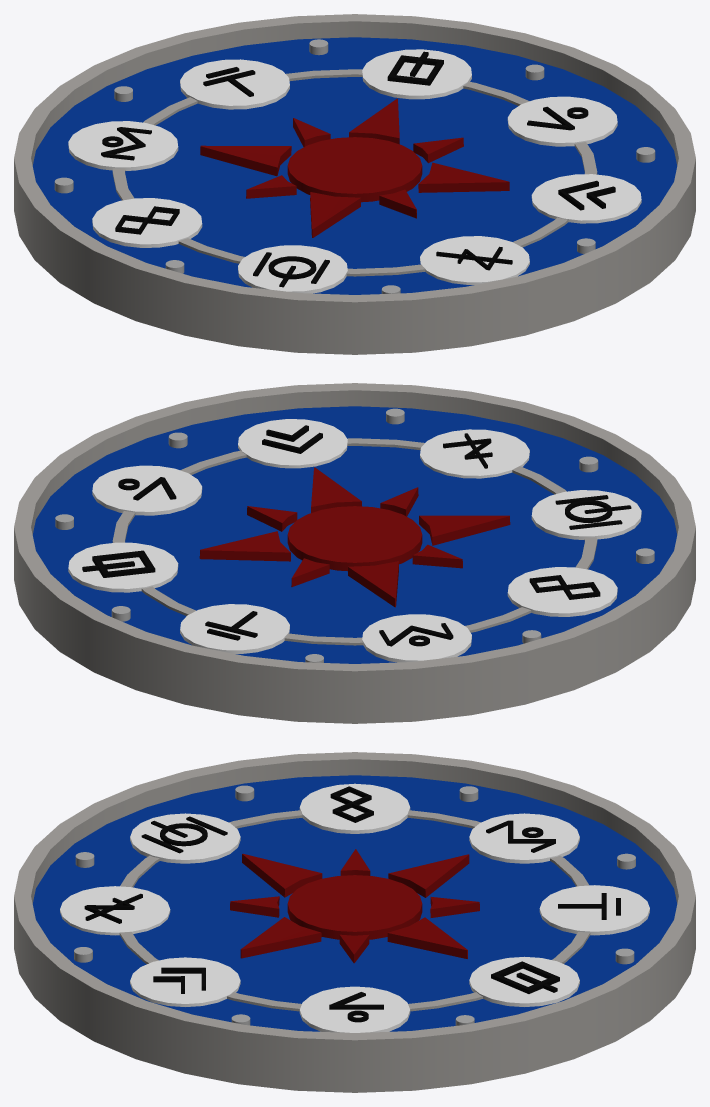
Rendered from compass.fbx.
The picture shows the model from 3 angles, top to bottom: view 1: azimuth 30°, elevation 25°; view 2: azimuth 150°, elevation 25°; view 3: azimuth 270°, elevation 25°; orthographic projection.
Parts seen in each view (by area): view 1: base, rim, rays, CENTER, rim1, DOWN_LEFT, LEFT_UP, RIGHT_DOWN, DOWN, UP_RIGHT, UP, LEFT (+9 smaller); view 2: base, rim, rays, CENTER, rim1, LEFT_UP, DOWN_LEFT, UP_RIGHT, RIGHT_DOWN, UP, DOWN, LEFT (+9 smaller); view 3: base, rim, rays, CENTER, rim1, DOWN_LEFT, UP, DOWN, UP_RIGHT, LEFT_UP, RIGHT_DOWN, RIGHT (+8 smaller).
Boxes of the visible parts, x1,y1,x2,y2 form: base: (32,37,677,294); rim: (14,14,695,354); rays: (200,98,509,237); CENTER: (287,137,422,202); rim1: (112,69,597,276); DOWN_LEFT: (180,59,289,109); LEFT_UP: (507,96,617,146); RIGHT_DOWN: (92,198,202,247); DOWN: (68,121,178,170); UP_RIGHT: (420,236,529,284); UP: (531,174,641,223); LEFT: (362,49,471,99); base: (32,406,677,663); rim: (14,383,695,723); rays: (199,467,510,607); CENTER: (287,506,422,571); rim1: (112,438,597,645); LEFT_UP: (92,465,202,515); DOWN_LEFT: (180,604,289,653); UP_RIGHT: (420,429,529,478); RIGHT_DOWN: (507,567,617,616); UP: (238,419,347,468); DOWN: (362,614,471,662); LEFT: (68,542,178,592); base: (32,775,677,1031); rim: (14,752,695,1092); rays: (230,849,479,963); CENTER: (287,875,422,939); rim1: (119,810,590,1011); DOWN_LEFT: (539,885,649,935); UP: (130,957,240,1006); DOWN: (469,813,579,863); UP_RIGHT: (60,886,170,935); LEFT_UP: (299,986,410,1032); RIGHT_DOWN: (299,783,410,833); RIGHT: (130,813,240,863).
Size of the model in its own units: 1.9 by 0.2028 by 1.9.
